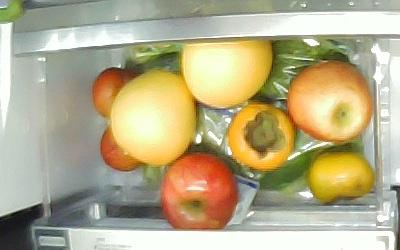apple: (286, 60, 373, 142), (161, 153, 237, 230)
grapefruit: (111, 69, 197, 166), (181, 39, 273, 108)
persimmon: (227, 102, 295, 170), (308, 151, 374, 206)
prune: (93, 67, 134, 119), (101, 124, 141, 172)
